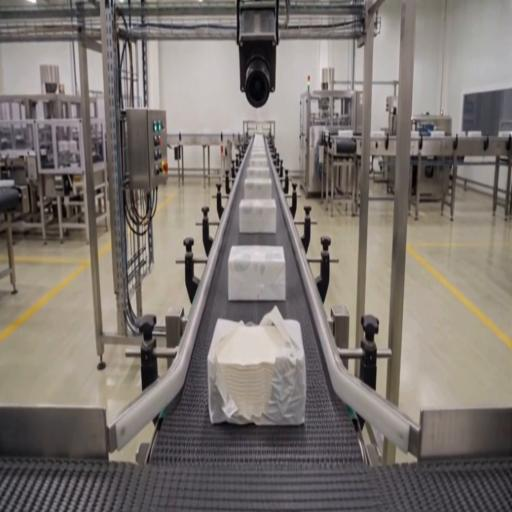defective: (208, 309, 306, 425)
good: (228, 244, 287, 304), (238, 198, 278, 236), (244, 176, 273, 200), (245, 160, 270, 178), (247, 136, 269, 152), (0, 179, 15, 188), (430, 130, 445, 138), (498, 130, 512, 138), (372, 130, 388, 137), (468, 130, 482, 137), (338, 130, 353, 136), (411, 131, 420, 138)
